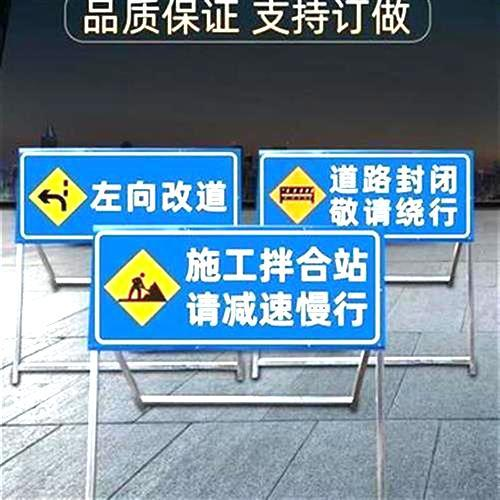sign: (96, 231, 380, 344), (260, 152, 470, 239), (20, 147, 237, 228)
